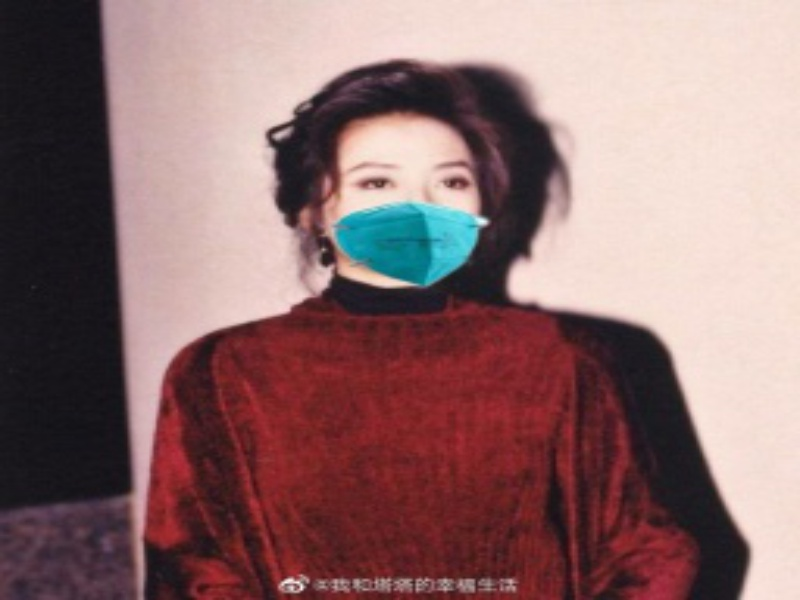ManaoArotava: (274, 74, 513, 301)
